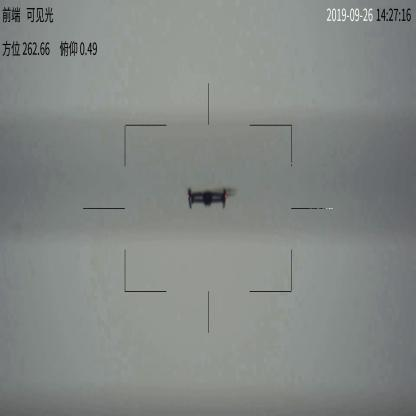uav: (179, 182, 232, 210)
